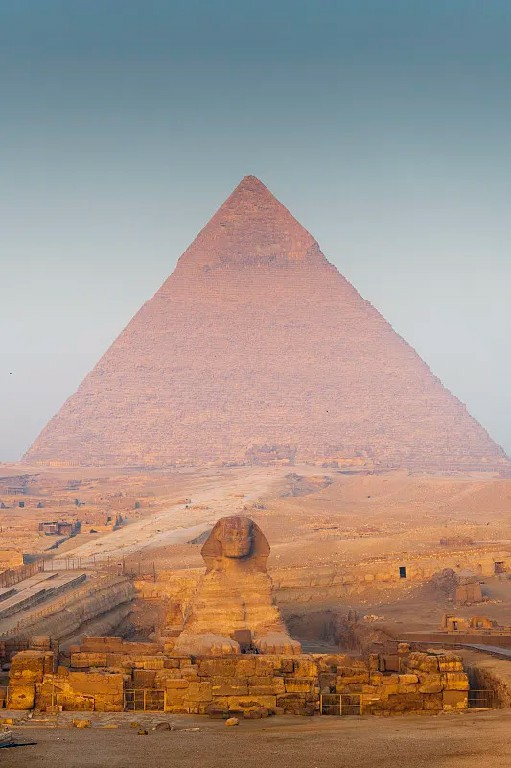Pyramid: (20, 174, 508, 473)
